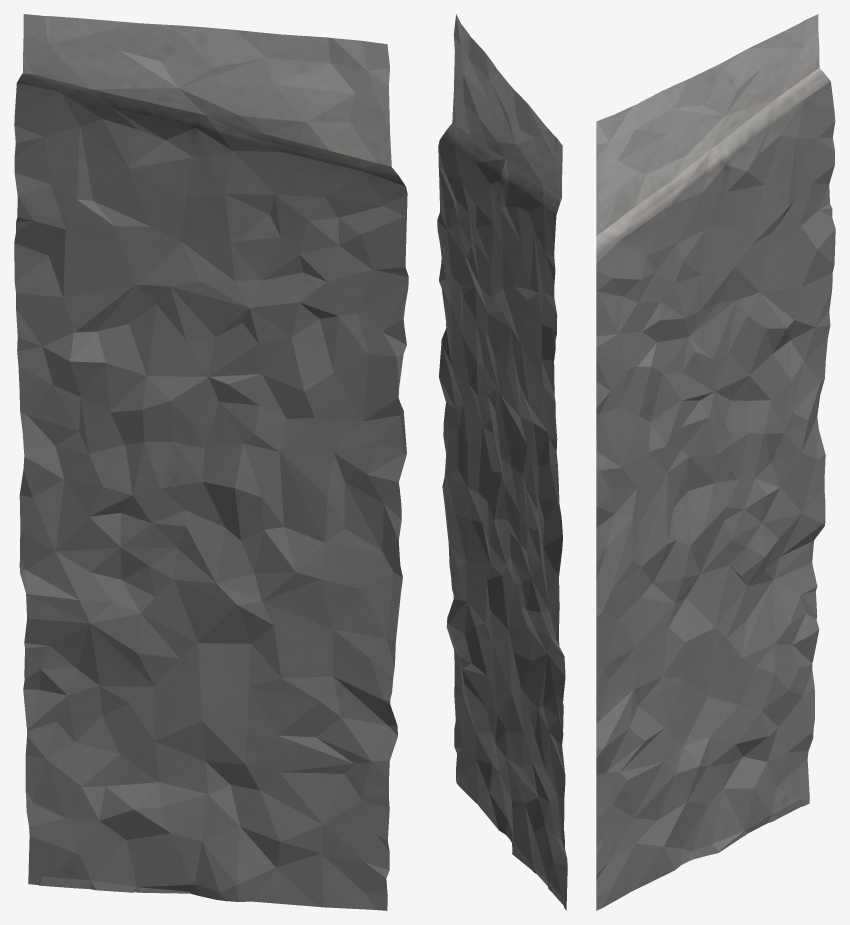
The picture shows the model from 3 angles, left to right: view 1: azimuth 30°, elevation 25°; view 2: azimuth 150°, elevation 25°; view 3: azimuth 270°, elevation 25°; orthographic projection. The views are drawn at different scales.
Size of the model in its own units: 0.2661 by 0.8374 by 0.2301.
1 material, 1 textured.
